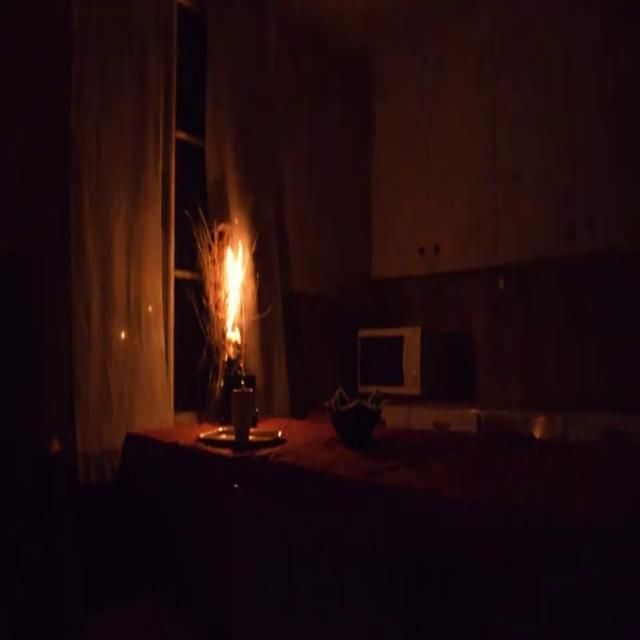Fire: (220, 231, 250, 356)
